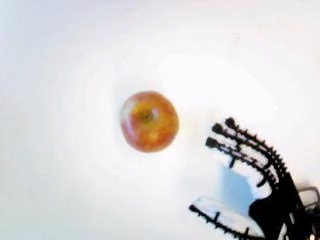apple: (119, 91, 178, 154)
hand: (188, 118, 311, 239)
